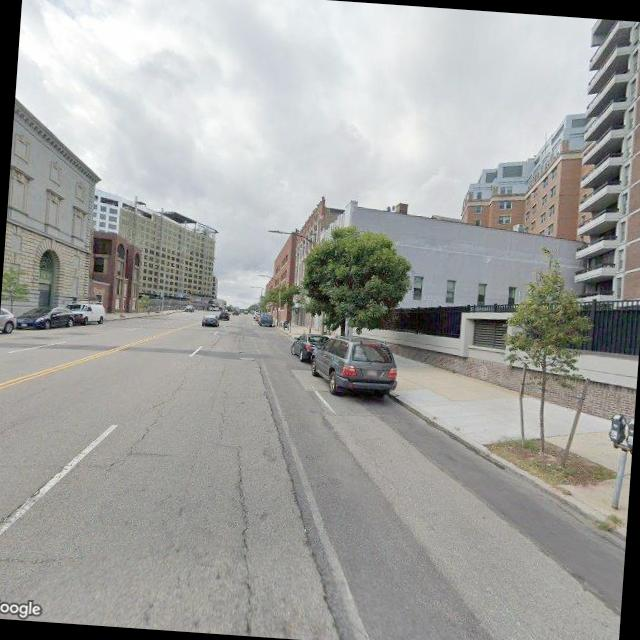crack: (217, 439, 270, 633), (106, 368, 189, 477), (210, 363, 236, 442), (0, 546, 73, 572)
